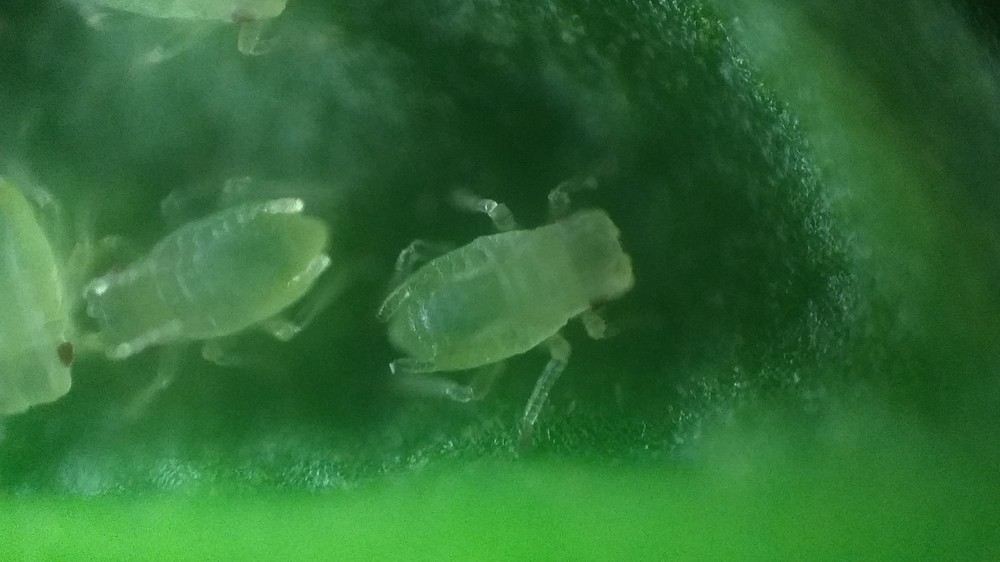Pulgon: (362, 154, 679, 428), (75, 164, 371, 394), (1, 148, 93, 421)
